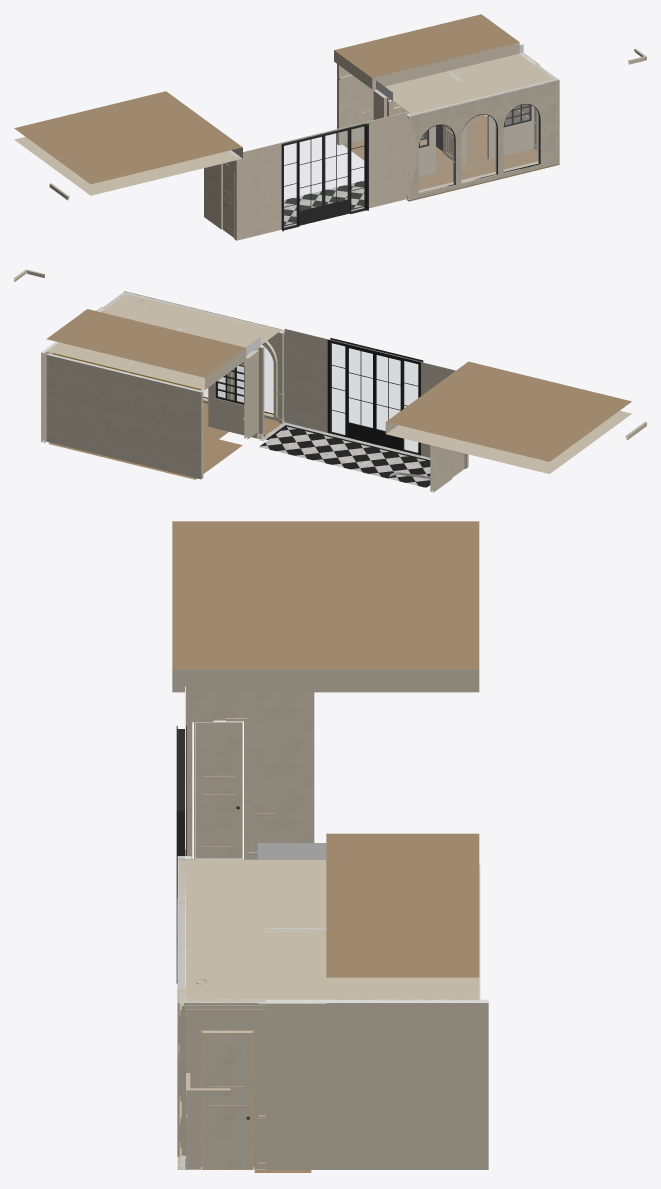
File: office-hall-176c8e9e4adb.glb
3 renders of one model, top to bottom at view 1: azimuth 30°, elevation 25°; view 2: azimuth 150°, elevation 25°; view 3: azimuth 270°, elevation 25°, orthographic. The views are drawn at different scales.
Parts seen in each view (by area): view 1: office-hall-look-2575515a05775d9e, office-hall-look-698abdfdc6fb970d, office-hall-look-d5a4a1b5d3594c04, office-hall-c9e78b9ec1bb39cd, office-hall-dbd60ee5c3733ed6, office-hall-look-dbd60ee5c3733ed6, office-hall-5cbcc744e6f960f3, office-hall-38561c12898e4d43, office-hall-c02a36d0521470a9, office-hall-look-19647d6da46c2b80, office-hall-c374268555806af8, office-hall-7dc307bfa7ee071d (+8 smaller); view 2: office-hall-look-2575515a05775d9e, office-hall-look-19647d6da46c2b80, office-hall-look-698abdfdc6fb970d, office-hall-look-d5a4a1b5d3594c04, office-hall-look-c4ac463b6a960119, office-hall-dbd60ee5c3733ed6, office-hall-a822d30aa9e2c55a, office-hall-look-6a051330000fbca1, office-hall-look-3b0077416469e01b, office-hall-look-85f0fd939e0fcc78, office-hall-38561c12898e4d43, office-hall-c9e78b9ec1bb39cd (+7 smaller); view 3: office-hall-look-2575515a05775d9e, office-hall-look-6a1144f4e43410bb, office-hall-look-85f0fd939e0fcc78, office-hall-dbd60ee5c3733ed6, office-hall-look-dbd60ee5c3733ed6, office-hall-cf6d22c5317ced0b, office-hall-look-3322bc58bedf5620, office-hall-68d06b361ac47823, office-hall-c9e78b9ec1bb39cd, office-hall-look-698abdfdc6fb970d.
Part boxes in pixels (<box>): office-hall-look-2575515a05775d9e: <box>14,14,519,195</box>; office-hall-look-698abdfdc6fb970d: <box>281,123,368,231</box>; office-hall-look-d5a4a1b5d3594c04: <box>236,112,407,240</box>; office-hall-c9e78b9ec1bb39cd: <box>407,82,544,200</box>; office-hall-dbd60ee5c3733ed6: <box>389,63,558,115</box>; office-hall-look-dbd60ee5c3733ed6: <box>376,44,540,100</box>; office-hall-5cbcc744e6f960f3: <box>504,104,539,170</box>; office-hall-38561c12898e4d43: <box>419,125,454,191</box>; office-hall-c02a36d0521470a9: <box>461,115,496,180</box>; office-hall-look-19647d6da46c2b80: <box>337,64,397,145</box>; office-hall-c374268555806af8: <box>407,148,559,201</box>; office-hall-7dc307bfa7ee071d: <box>462,64,534,165</box>; office-hall-look-2575515a05775d9e: <box>46,309,631,473</box>; office-hall-look-19647d6da46c2b80: <box>46,353,203,479</box>; office-hall-look-698abdfdc6fb970d: <box>327,338,423,455</box>; office-hall-look-d5a4a1b5d3594c04: <box>284,328,468,466</box>; office-hall-look-c4ac463b6a960119: <box>259,426,430,487</box>; office-hall-dbd60ee5c3733ed6: <box>101,291,281,347</box>; office-hall-a822d30aa9e2c55a: <box>182,328,258,438</box>; office-hall-look-6a051330000fbca1: <box>244,348,258,439</box>; office-hall-look-3b0077416469e01b: <box>48,435,242,479</box>; office-hall-look-85f0fd939e0fcc78: <box>430,445,468,492</box>; office-hall-38561c12898e4d43: <box>237,345,273,411</box>; office-hall-c9e78b9ec1bb39cd: <box>138,295,284,421</box>; office-hall-look-2575515a05775d9e: <box>172,521,479,1000</box>; office-hall-look-6a1144f4e43410bb: <box>265,999,488,1169</box>; office-hall-look-85f0fd939e0fcc78: <box>186,692,314,859</box>; office-hall-dbd60ee5c3733ed6: <box>178,859,272,1002</box>; office-hall-look-dbd60ee5c3733ed6: <box>258,843,326,1003</box>; office-hall-cf6d22c5317ced0b: <box>202,1032,252,1168</box>; office-hall-look-3322bc58bedf5620: <box>195,721,242,858</box>; office-hall-68d06b361ac47823: <box>186,999,265,1169</box>; office-hall-c9e78b9ec1bb39cd: <box>177,856,185,1155</box>; office-hall-look-698abdfdc6fb970d: <box>176,726,186,983</box>.
Size of the model in its own units: 21.69 by 3.44 by 5.14.
Materials: 27 (7 with a texture image).
